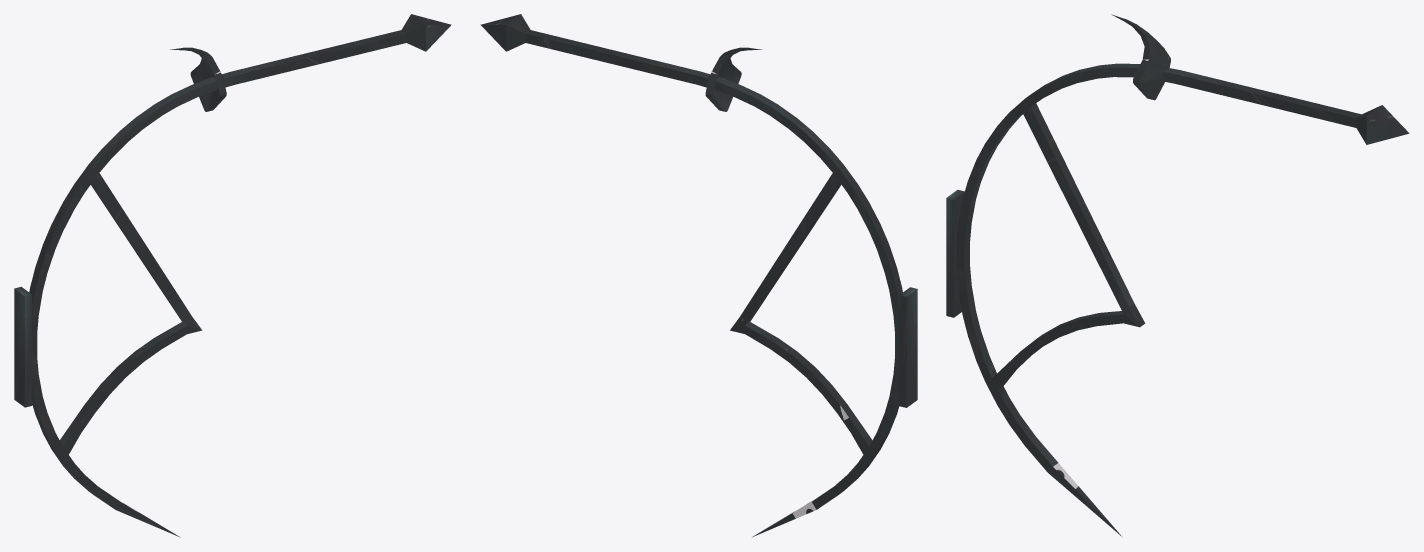
3 views of the same model, side by side, from view 1: azimuth 30°, elevation 25°; view 2: azimuth 150°, elevation 25°; view 3: azimuth 330°, elevation 25° (orthographic). The views are drawn at different scales.
Parts seen in each view (by area): view 1: SM_Zi_Core_01_LOD0; view 2: SM_Zi_Core_01_LOD0; view 3: SM_Zi_Core_01_LOD0.
Boxes of the visible parts, <box> form: SM_Zi_Core_01_LOD0: <box>14,14,451,537</box>; SM_Zi_Core_01_LOD0: <box>480,14,917,537</box>; SM_Zi_Core_01_LOD0: <box>946,14,1409,537</box>.
Size of the model in its own units: 3.25 by 3.54 by 0.3867.
